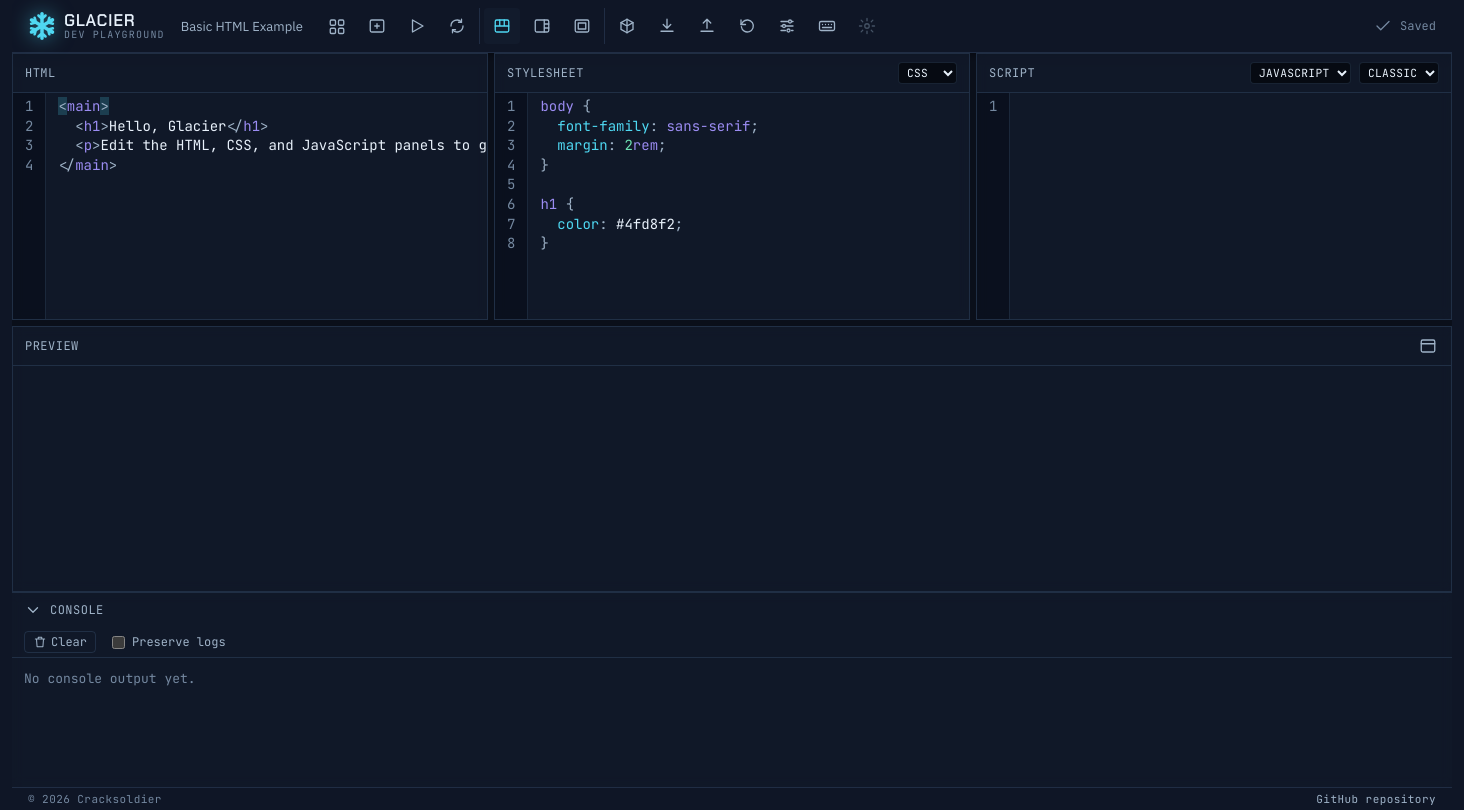
Test: AppShell › wires an SCSS compile error into the CSS editor error badge and the preview stale banner
Select "SCSS" in the dropdown named "Stylesheet language" at (928, 73), box [898, 62, 957, 84]
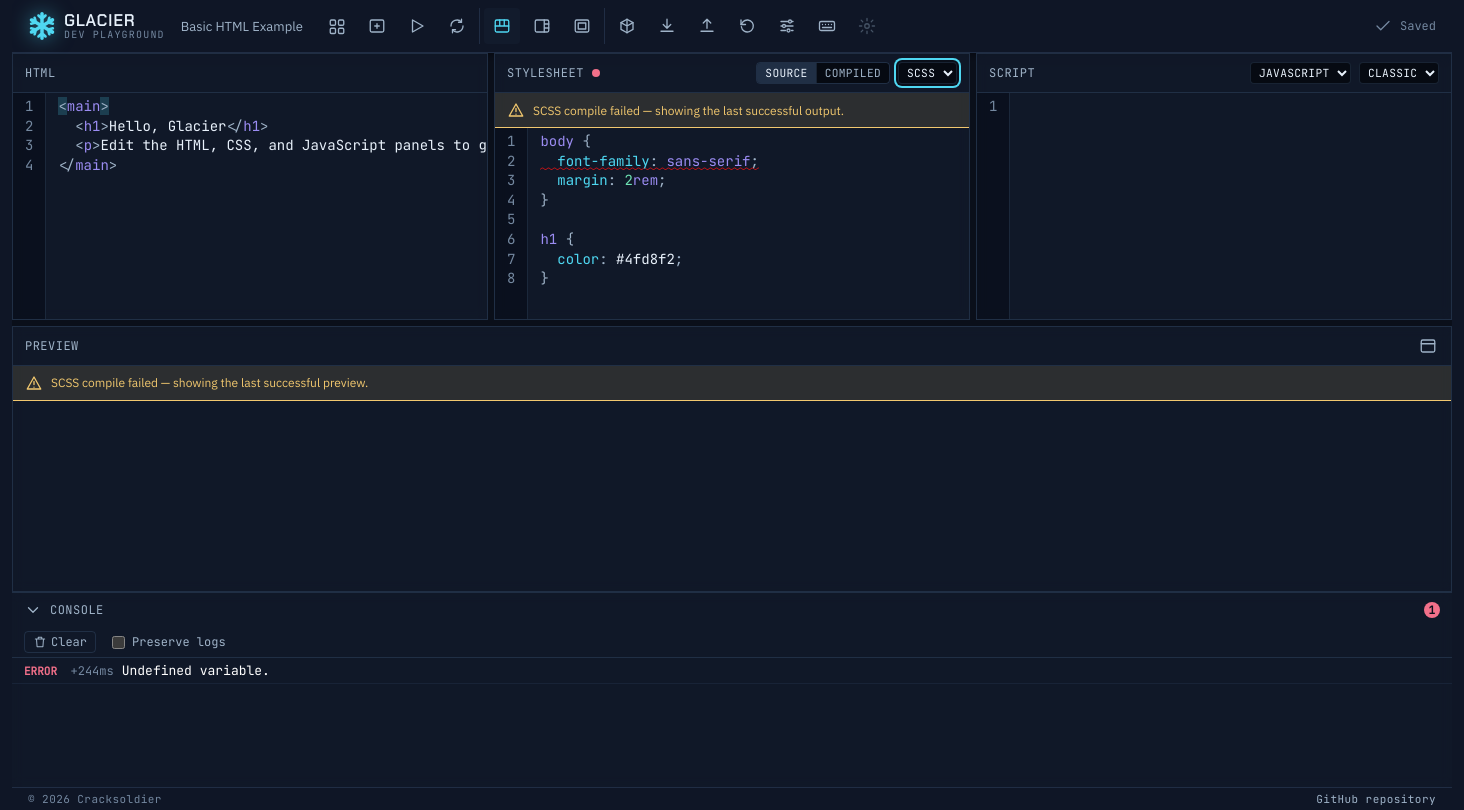
expect the text "SCSS compile failed — showing the last successful output." is shown: met, box [533, 102, 844, 118]
